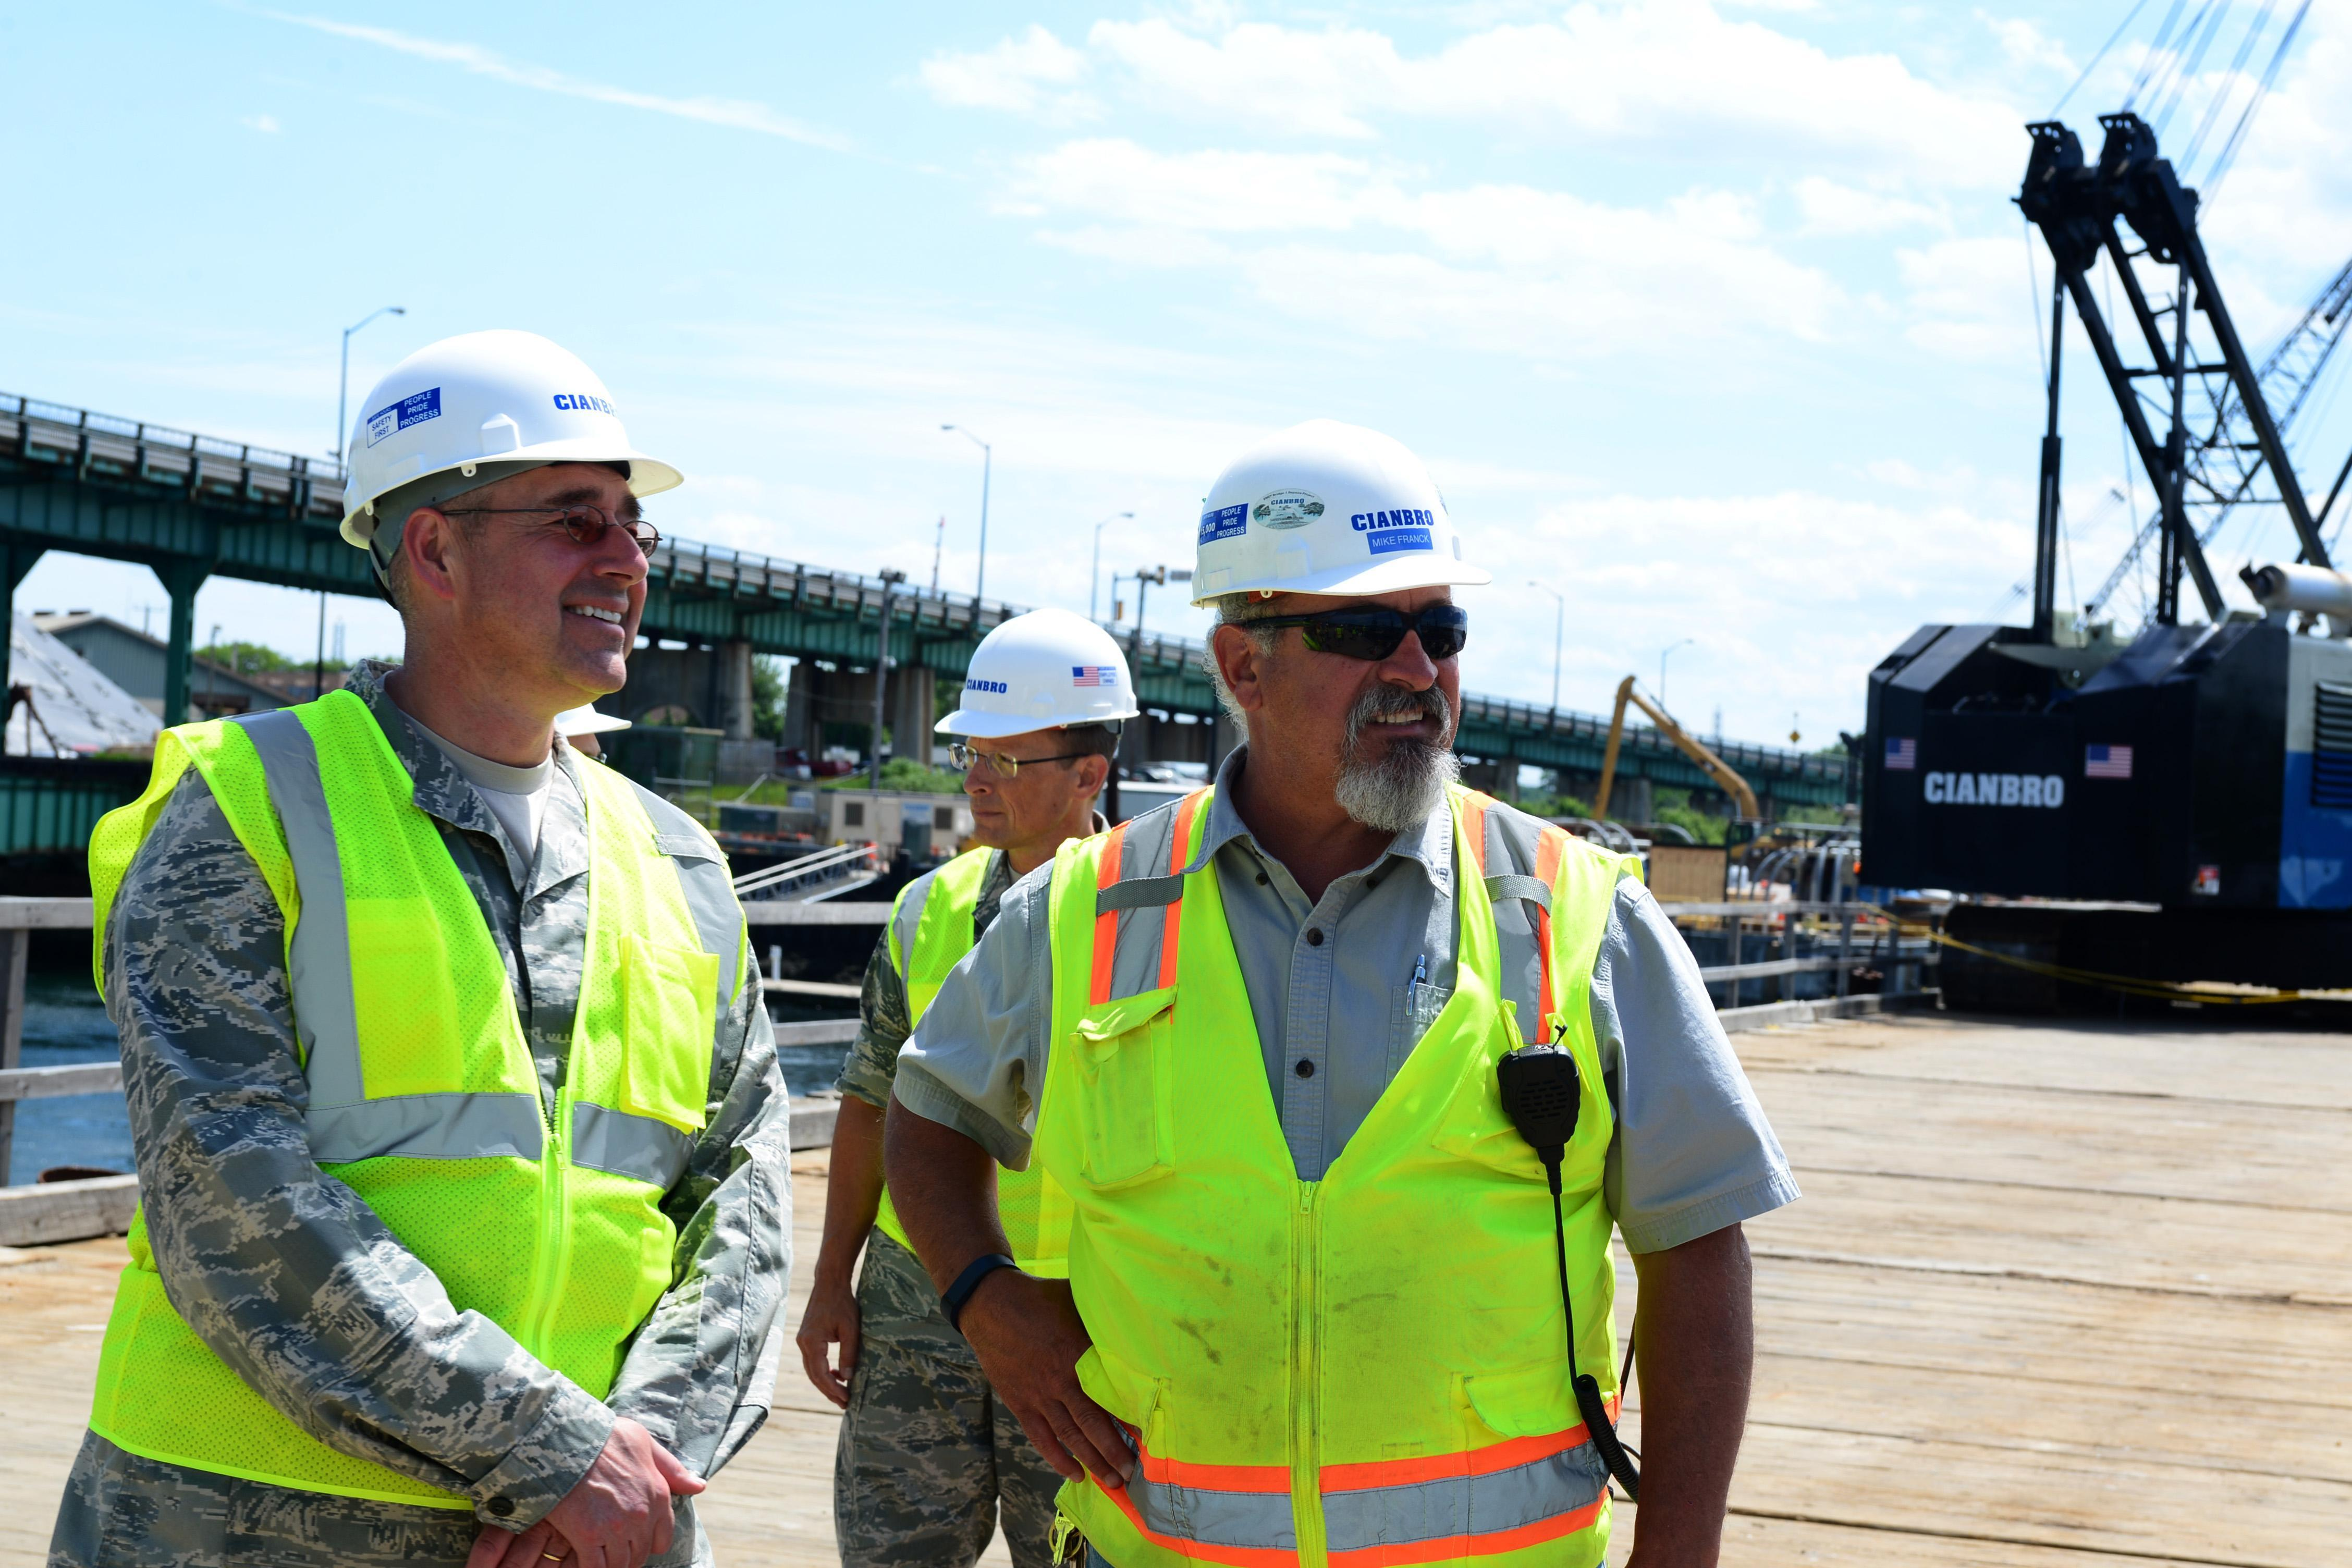vest: (102, 684, 759, 1509), (987, 774, 1654, 1461), (866, 814, 1183, 1293)
